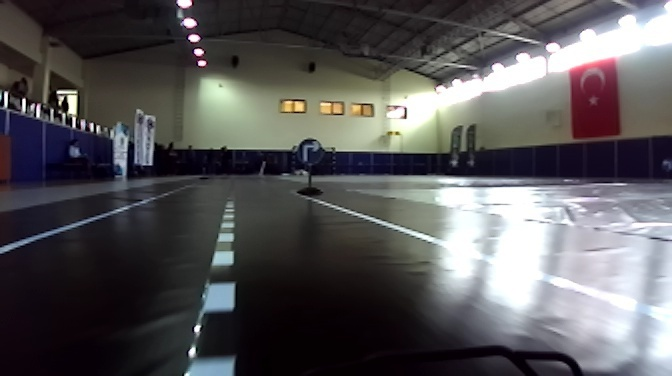saga_donus: (295, 137, 324, 168)
